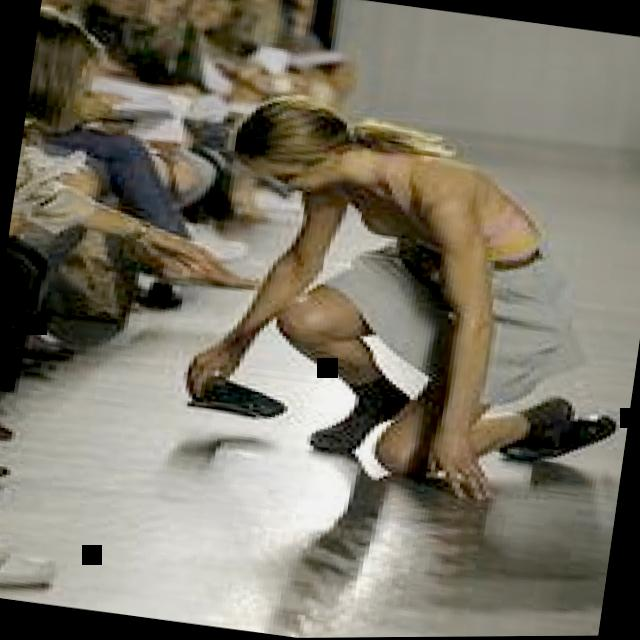Fall-Detected: (149, 56, 640, 510)
